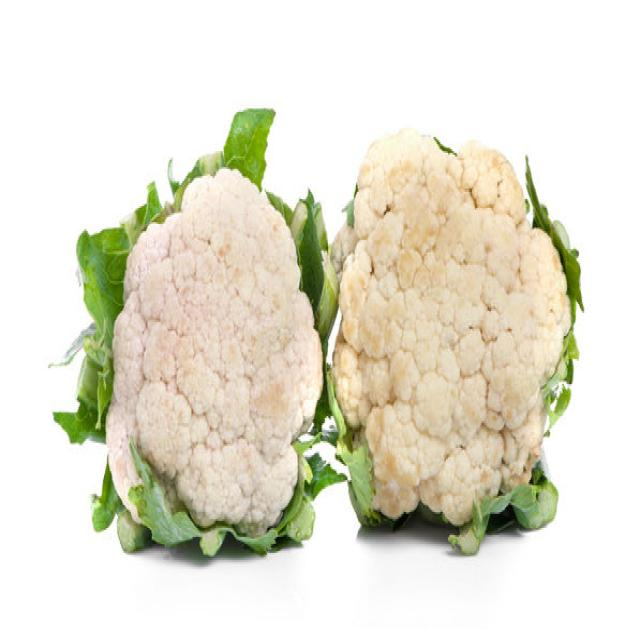Cauliflower: (329, 124, 574, 540), (102, 163, 324, 554)
